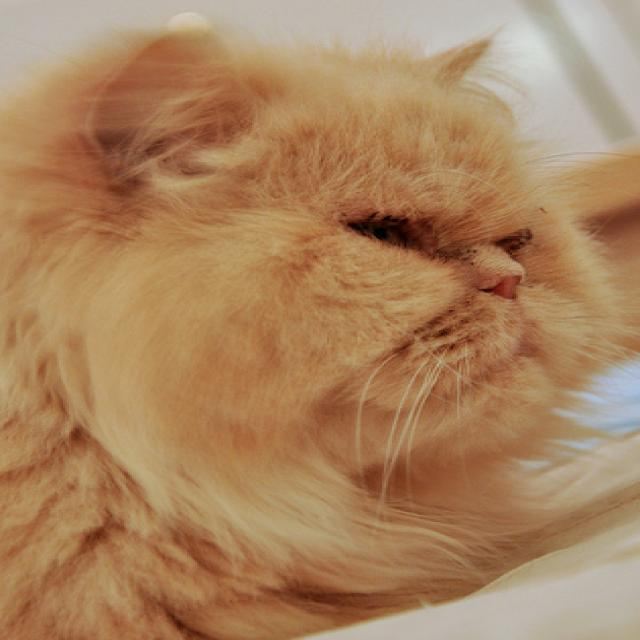Persian: (0, 14, 634, 640)
